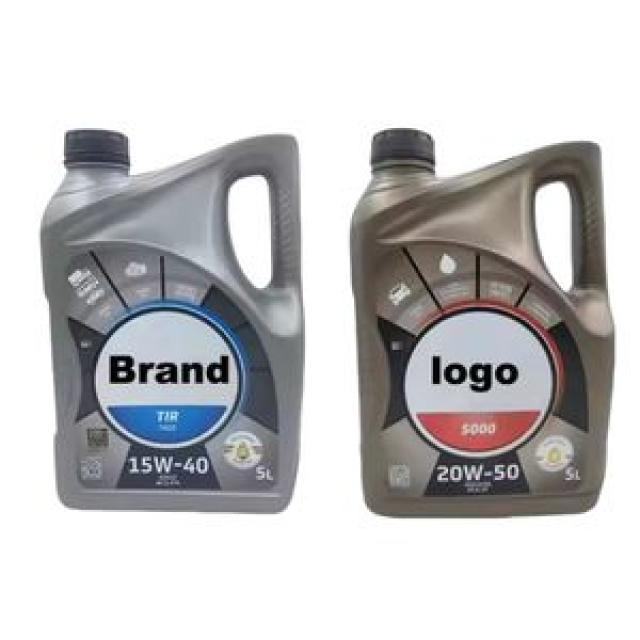motor_oil: (347, 110, 620, 535), (43, 119, 313, 522)
